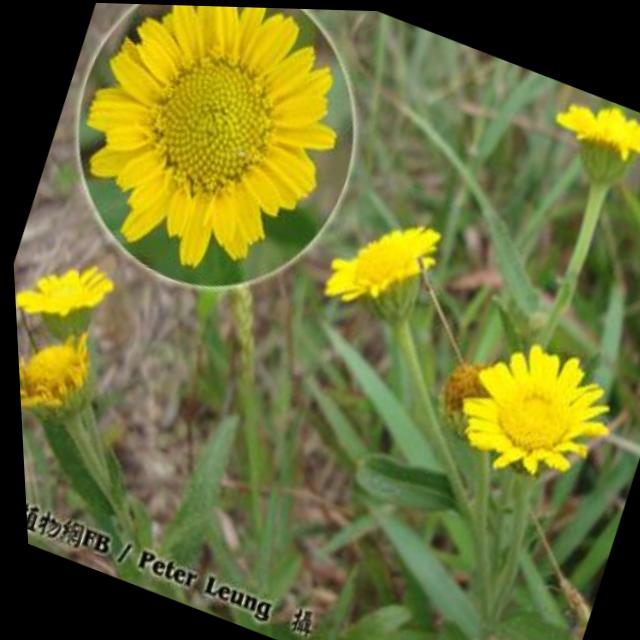Flower: (45, 1, 384, 298), (433, 314, 629, 496), (307, 184, 453, 336), (531, 84, 640, 209), (13, 323, 107, 444), (10, 239, 119, 335)
